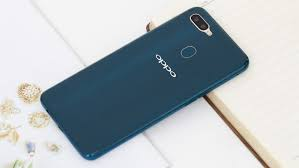oppo: (37, 4, 251, 164)
